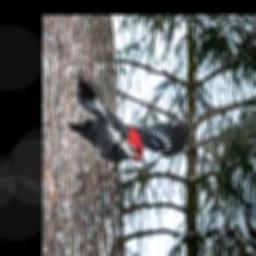Woodpecker: (69, 67, 193, 168)
